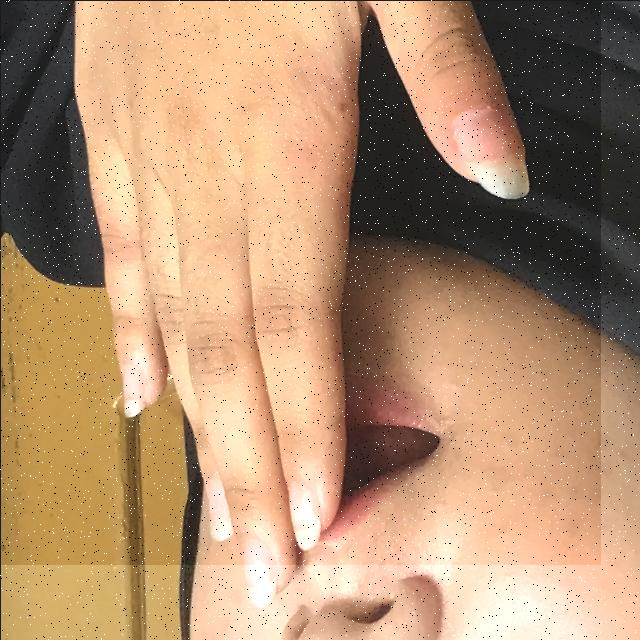ngantuk: (0, 0, 600, 564)
